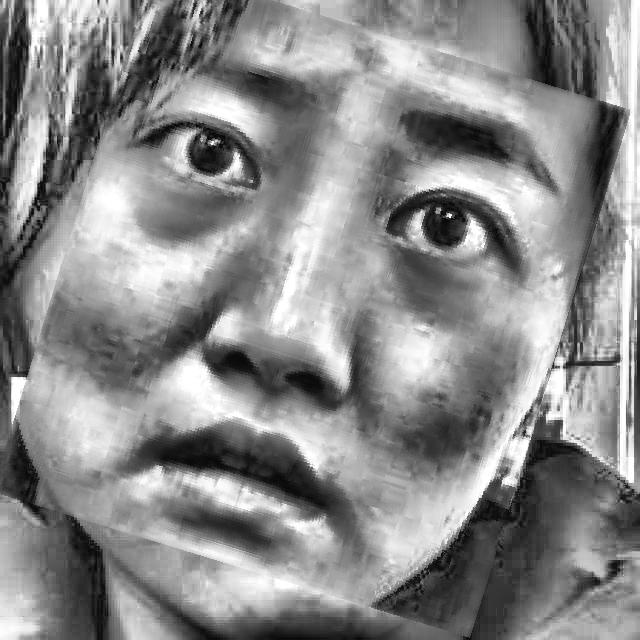fear: (26, 0, 595, 607)
